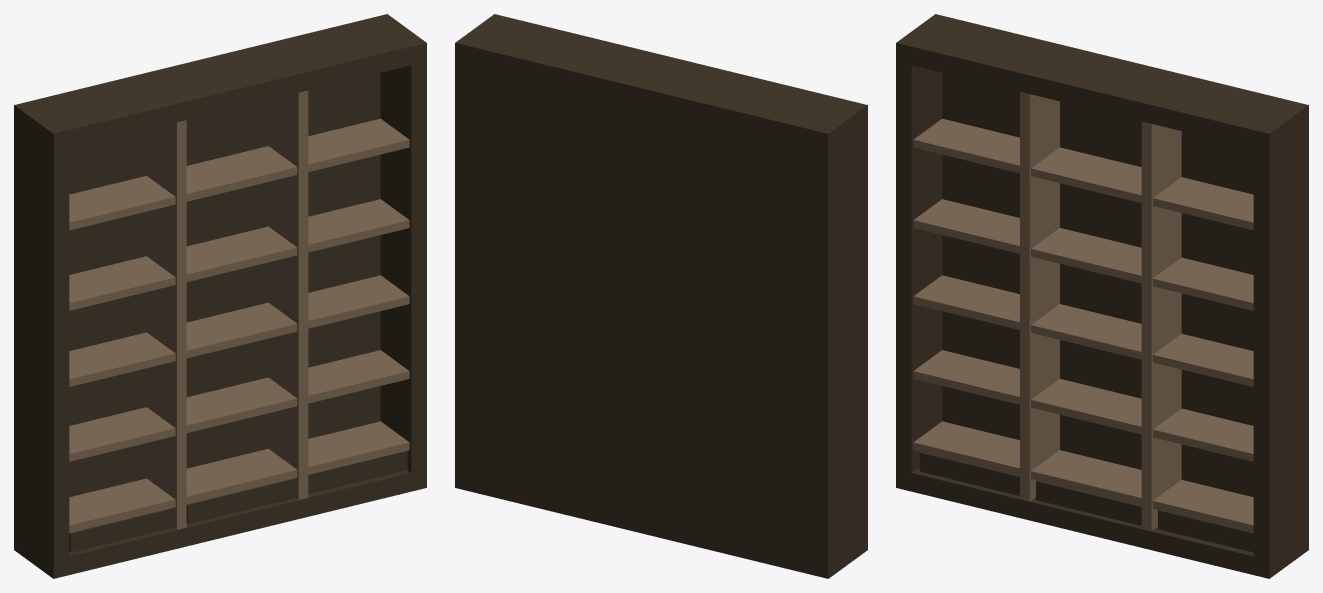
File: Moble_Llibreria.fbx
3 renders of one model, left to right at view 1: azimuth 30°, elevation 25°; view 2: azimuth 150°, elevation 25°; view 3: azimuth 330°, elevation 25°, orthographic.
Parts seen in each view (by area): view 1: Cos, SeparadorVertical.001, SeparadorVertical, Prestatge.001, Prestatge, Prestatge.004, Prestatge.003, Prestatge.002, Calaix.001, Calaix, Calaix.002; view 2: Cos; view 3: Cos, SeparadorVertical.001, SeparadorVertical, Prestatge, Prestatge.001, Prestatge.002, Prestatge.003, Prestatge.004, Calaix.001, Calaix, Calaix.002.
Part boxes in pixels (box(x1,y1,x2,y2)): Cos: box(14, 14, 426, 578); SeparadorVertical.001: box(268, 90, 308, 499); SeparadorVertical: box(146, 120, 186, 529); Prestatge.001: box(69, 199, 409, 310); Prestatge: box(69, 118, 409, 230); Prestatge.004: box(69, 421, 409, 532); Prestatge.003: box(69, 350, 409, 461); Prestatge.002: box(69, 275, 409, 386); Calaix.001: box(186, 478, 294, 524); Calaix: box(69, 508, 171, 552); Calaix.002: box(308, 451, 407, 493); Cos: box(455, 14, 867, 578); Cos: box(896, 14, 1308, 578); SeparadorVertical.001: box(1141, 121, 1181, 531); SeparadorVertical: box(1020, 92, 1059, 501); Prestatge: box(913, 118, 1253, 230); Prestatge.001: box(913, 199, 1253, 310); Prestatge.002: box(913, 275, 1253, 386); Prestatge.003: box(913, 350, 1253, 461); Prestatge.004: box(913, 421, 1253, 532); Calaix.001: box(1036, 480, 1141, 525); Calaix: box(919, 452, 1019, 495); Calaix.002: box(1158, 510, 1253, 552).
Size of the model in its own units: 373 by 425 by 68.15.
